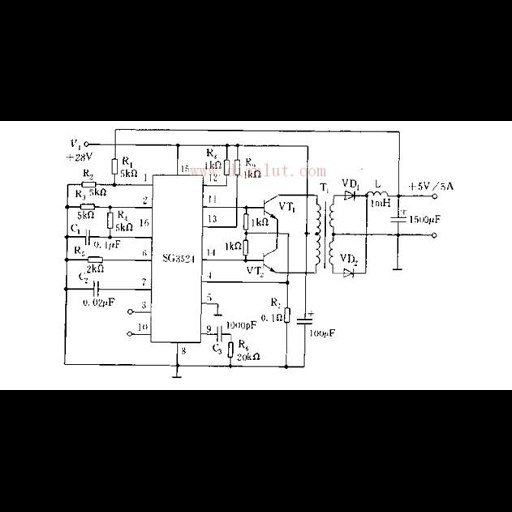capacitor: (91, 278, 103, 298), (214, 323, 224, 344), (82, 227, 92, 247)
firstpolarcapacitor: (297, 310, 316, 327), (391, 209, 408, 226)
firstresistance: (283, 304, 293, 326), (110, 155, 119, 178), (233, 156, 242, 179), (226, 338, 235, 361), (77, 201, 97, 211), (105, 211, 114, 231), (86, 254, 104, 264), (241, 211, 250, 231), (223, 157, 231, 179), (79, 180, 98, 188), (242, 237, 249, 257)
inductor: (365, 189, 392, 198)
npn: (258, 193, 281, 218), (260, 247, 279, 273)
seconddiode: (342, 266, 356, 281), (343, 189, 357, 202)
transformer: (314, 195, 336, 275)
